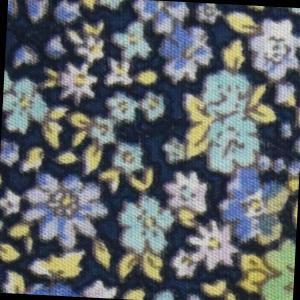Stain: (225, 166, 300, 300)
